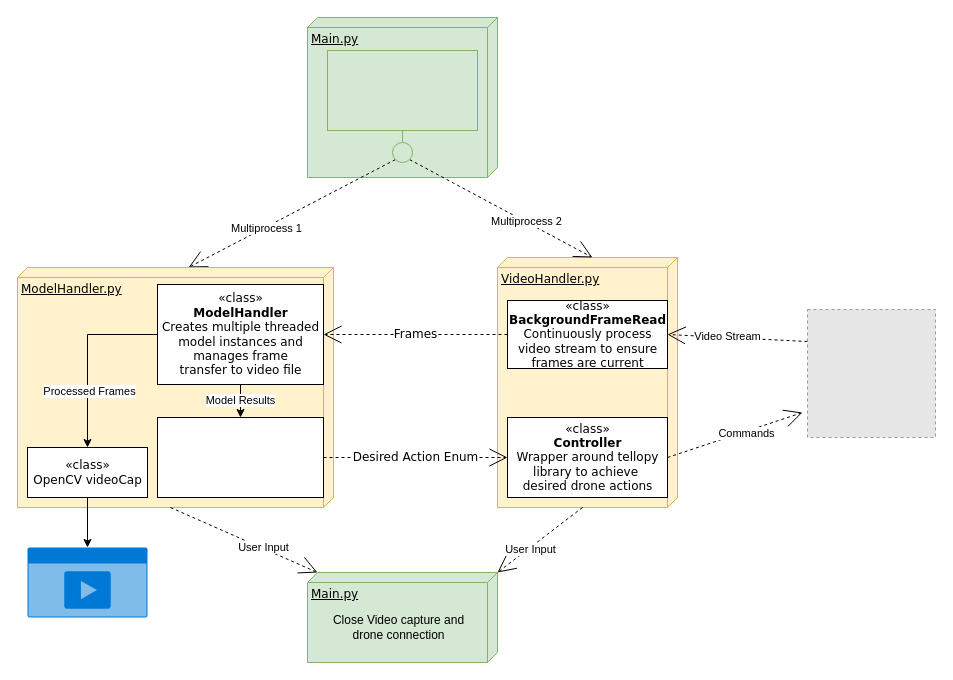
Image size: 953x680. Some labels were removed from this diagram. Grey dashed boxes stand in for pictures. The centre of each missing label's shape, as x and y in pixels:
"Video" belongs at pixel 87 582.
"«class» TelloDriver Parses results and conducts analysis to drive drone actions" belongs at pixel 240 457.
"«Objects» Yolov7 Model Process1 Process2" belongs at pixel 402 90.
